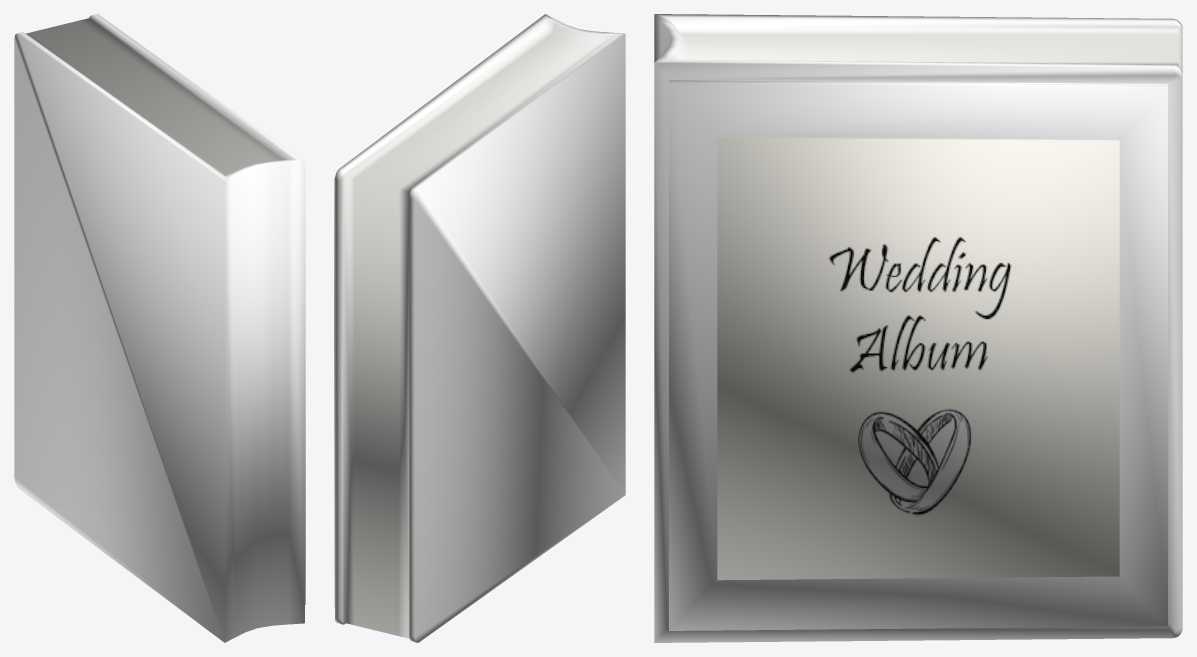
The model's file is WeddingAlbum1.fbx.
The picture shows the model from 3 angles, left to right: view 1: azimuth 30°, elevation 25°; view 2: azimuth 150°, elevation 25°; view 3: azimuth 270°, elevation 25°; orthographic projection. The views are drawn at different scales.
Parts seen in each view (by area): view 1: Cube; view 2: Cube; view 3: Cube.
Boxes of the visible parts, box(x1,y1,x2,y2) form: Cube: box(14, 14, 305, 642); Cube: box(334, 14, 625, 642); Cube: box(654, 14, 1182, 642).
Bounding box in the file's own units: 55.23 × 271 × 224.
1 material, 1 textured.
